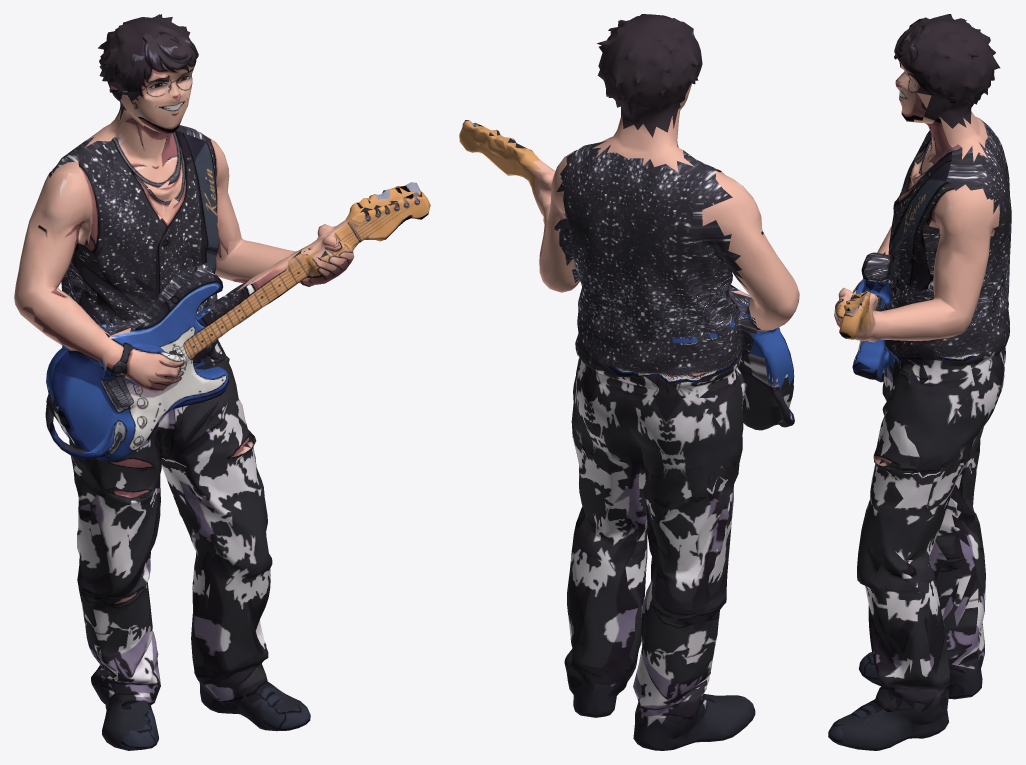
The model's file is kevin.obj.
3 renders of one model, left to right at view 1: azimuth 30°, elevation 25°; view 2: azimuth 150°, elevation 25°; view 3: azimuth 270°, elevation 25°, orthographic. The views are drawn at different scales.
Visible parts, largest first — view 1: kevin; view 2: kevin; view 3: kevin.
Boxes of the visible parts, x1,y1,x2,y2 form: kevin: [14, 14, 430, 750]; kevin: [459, 14, 799, 750]; kevin: [828, 14, 1011, 750].
Bounding box in the file's own units: 0.9683 × 1.75 × 0.4286.
1 material, 1 textured.
